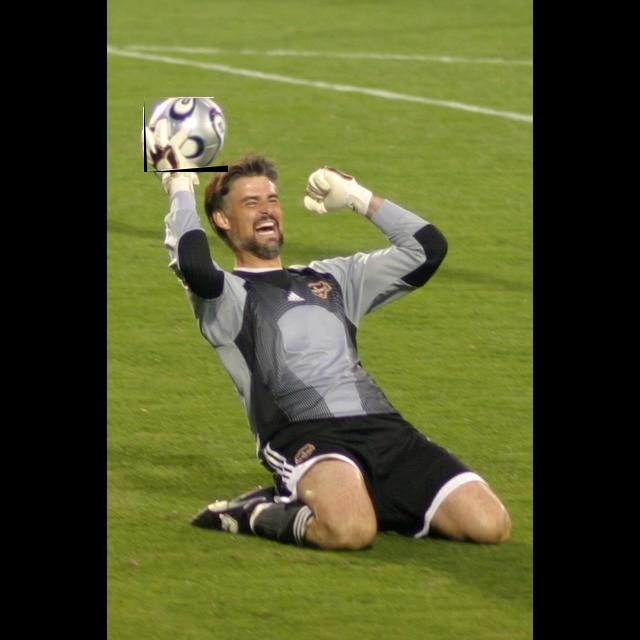Football: (144, 98, 228, 172)
